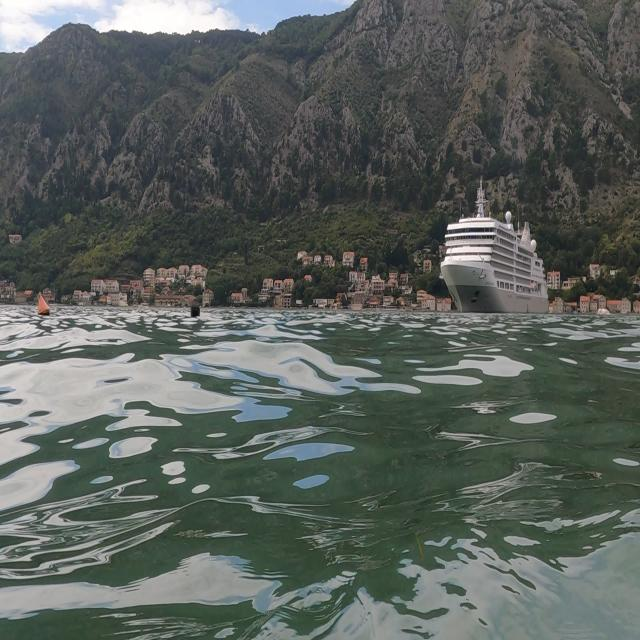boat: (438, 173, 550, 316)
buoy: (184, 296, 207, 326), (31, 291, 51, 322)
